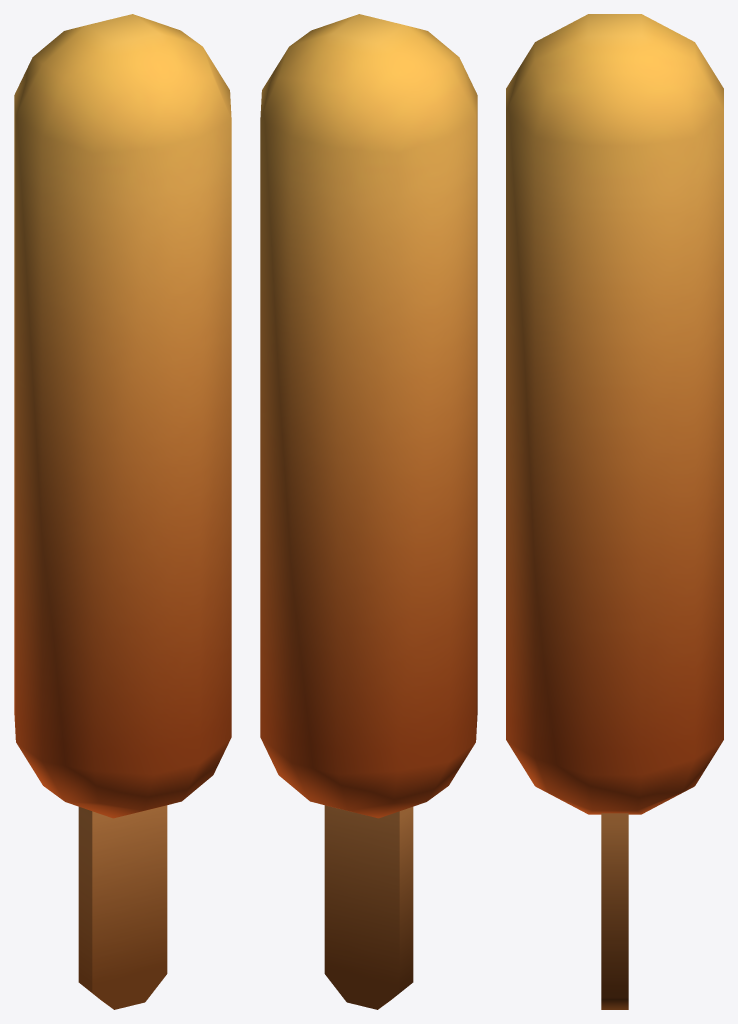
Rendered from m_PopsicleStick09.fbx.
3 views of the same model, side by side, from view 1: azimuth 30°, elevation 25°; view 2: azimuth 150°, elevation 25°; view 3: azimuth 270°, elevation 25° (orthographic).
Parts seen in each view (by area): view 1: m_PopsicleStick09; view 2: m_PopsicleStick09; view 3: m_PopsicleStick09.
Part boxes in pixels (box(x1,y1,x2,y2)): m_PopsicleStick09: box(14, 14, 231, 1009); m_PopsicleStick09: box(260, 14, 477, 1009); m_PopsicleStick09: box(506, 14, 723, 1009).
Size of the model in its own units: 4.64 by 22.99 by 4.64.
